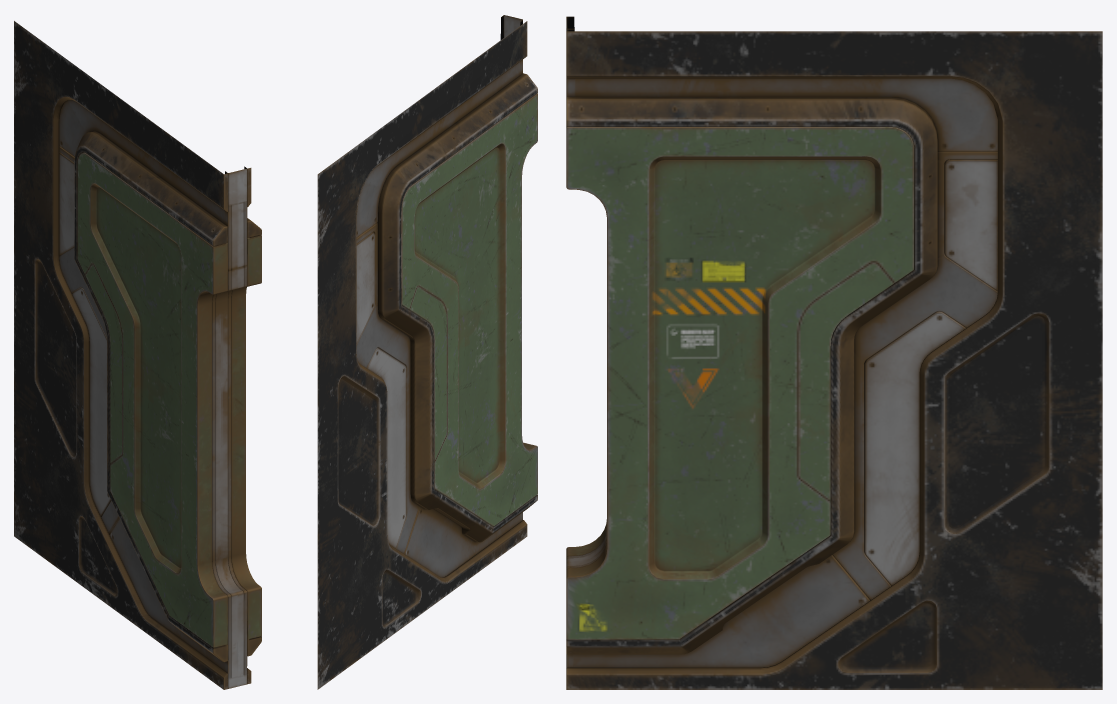
File: SM_CorridorDoor02_DoorR.fbx
The picture shows the model from 3 angles, left to right: view 1: azimuth 30°, elevation 25°; view 2: azimuth 150°, elevation 25°; view 3: azimuth 270°, elevation 25°; orthographic projection. The views are drawn at different scales.
Parts seen in each view (by area): view 1: SM_CorridorDoor02_DoorR_LOD0; view 2: SM_CorridorDoor02_DoorR_LOD0; view 3: SM_CorridorDoor02_DoorR_LOD0.
Boxes of the visible parts, x1,y1,x2,y2 form: SM_CorridorDoor02_DoorR_LOD0: [14, 21, 261, 689]; SM_CorridorDoor02_DoorR_LOD0: [317, 15, 537, 689]; SM_CorridorDoor02_DoorR_LOD0: [566, 16, 1102, 689].
Size of the model in its own units: 26.12 by 195 by 264.
1 material, 1 textured.
